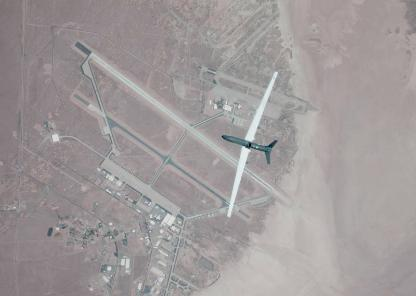P3: (220, 72, 278, 218)
